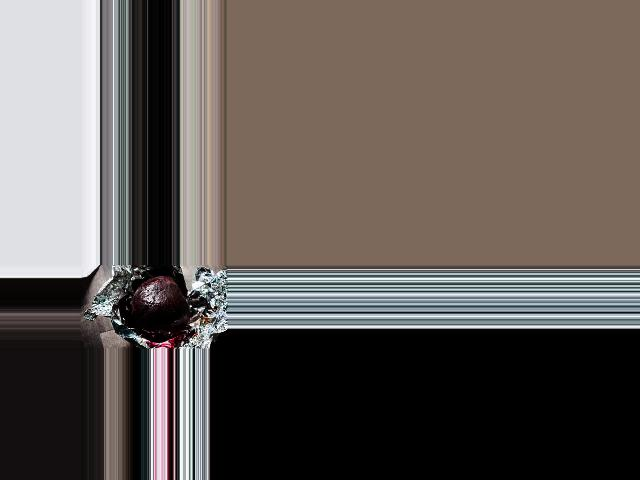beet: (130, 275, 191, 331)
